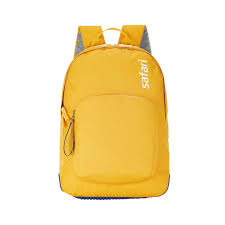backpack: (58, 24, 170, 199)
